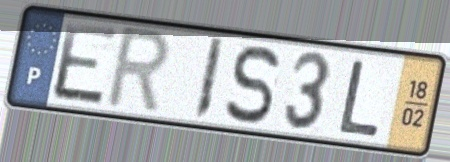3: (282, 49, 336, 134)
E: (50, 19, 121, 109)
I: (190, 35, 227, 124)
L: (335, 57, 384, 139)
R: (101, 24, 173, 118)
S: (222, 42, 283, 127)
